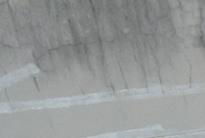fissura: (29, 40, 99, 64)
